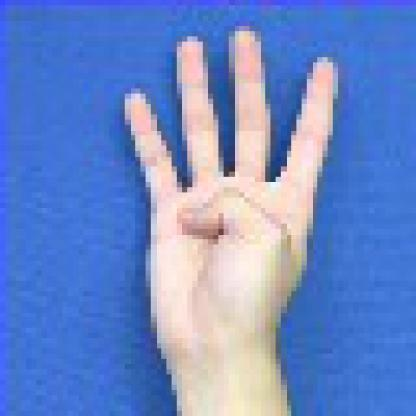four: (106, 17, 354, 371)
